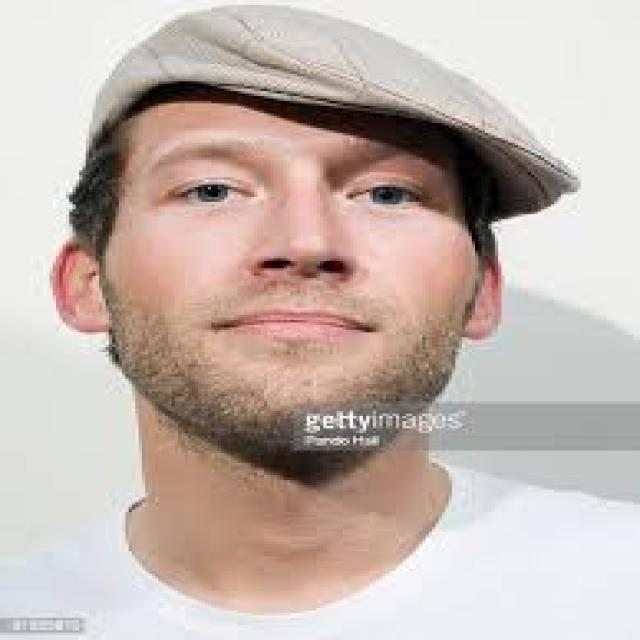cap: (46, 8, 584, 478)
